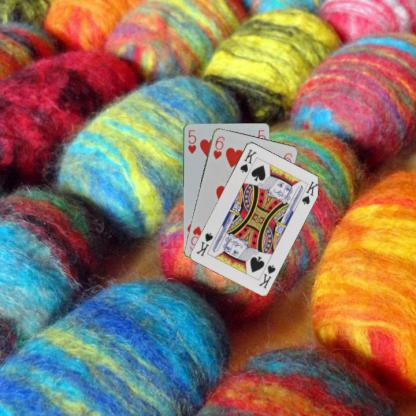5h: (185, 127, 197, 155)
6h: (210, 134, 226, 160)
Ks: (256, 262, 277, 289), (238, 146, 258, 174)
